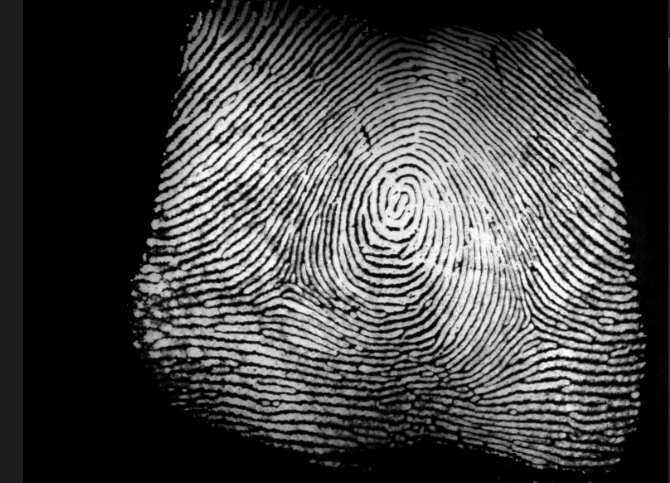deltas: (506, 298, 562, 354), (266, 251, 317, 305)
nucleo: (365, 176, 423, 228)
